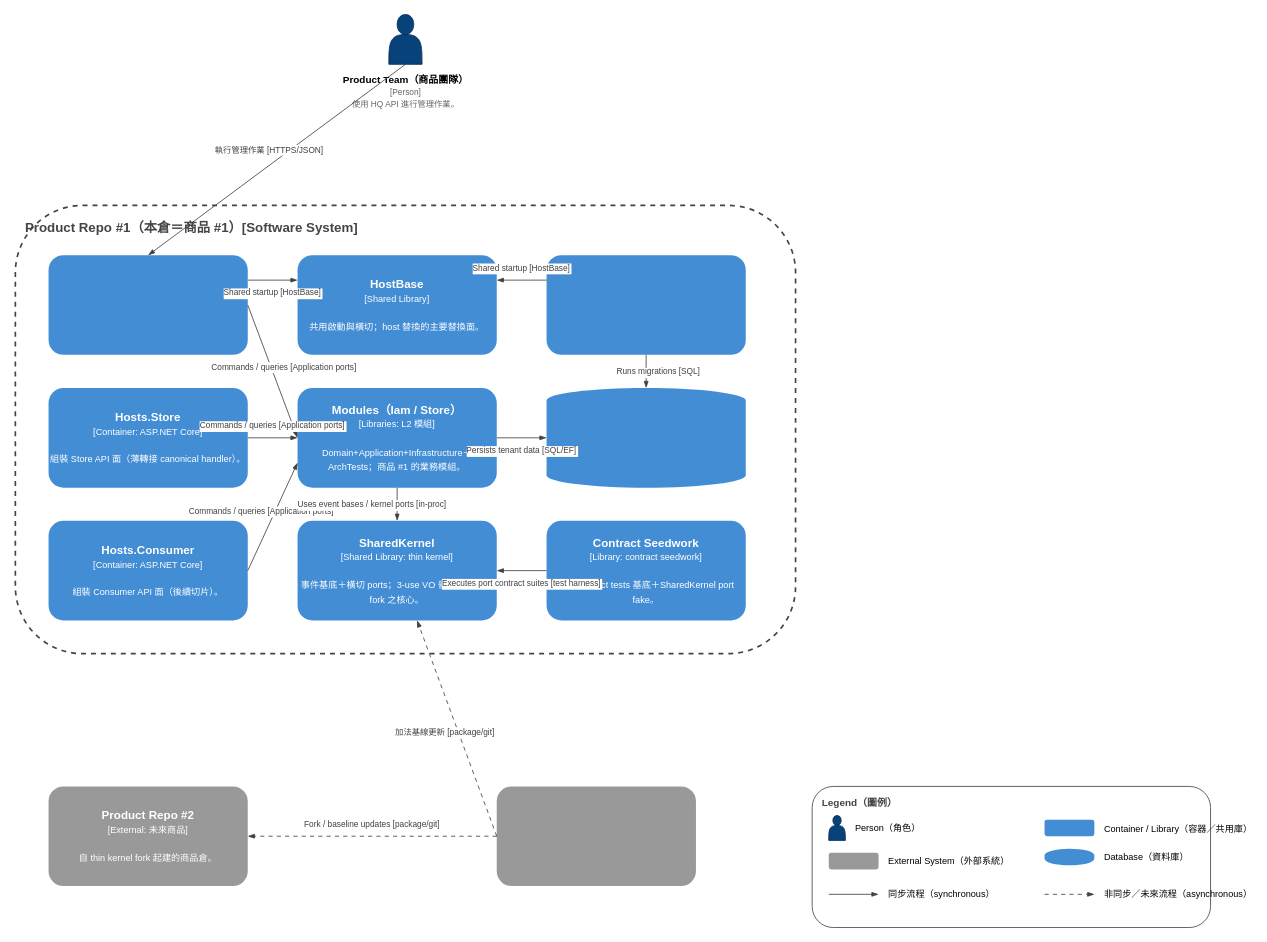
Image size: 1267x942. Some labels were removed from this diagram. Here are the shapes that lost their labels. From the top down, the centre of each, then its label:
the point at 147,304: Hosts.HQ [Container: ASP.NET Core] 組裝 HQ API 面；僅引用 Application ports+DTO。
the point at 645,304: Hosts.Migrator [Container] 唯一遷移執行者；線上 Host 禁自動 migrate。
the point at 645,437: PostgreSQL [Database] 多租戶 shared-db；tenant_id 列隔離。
the point at 596,836: Kernel Registry [External: 未來] kernel 共享基線母版（落點待第二商品成立時定案）。
